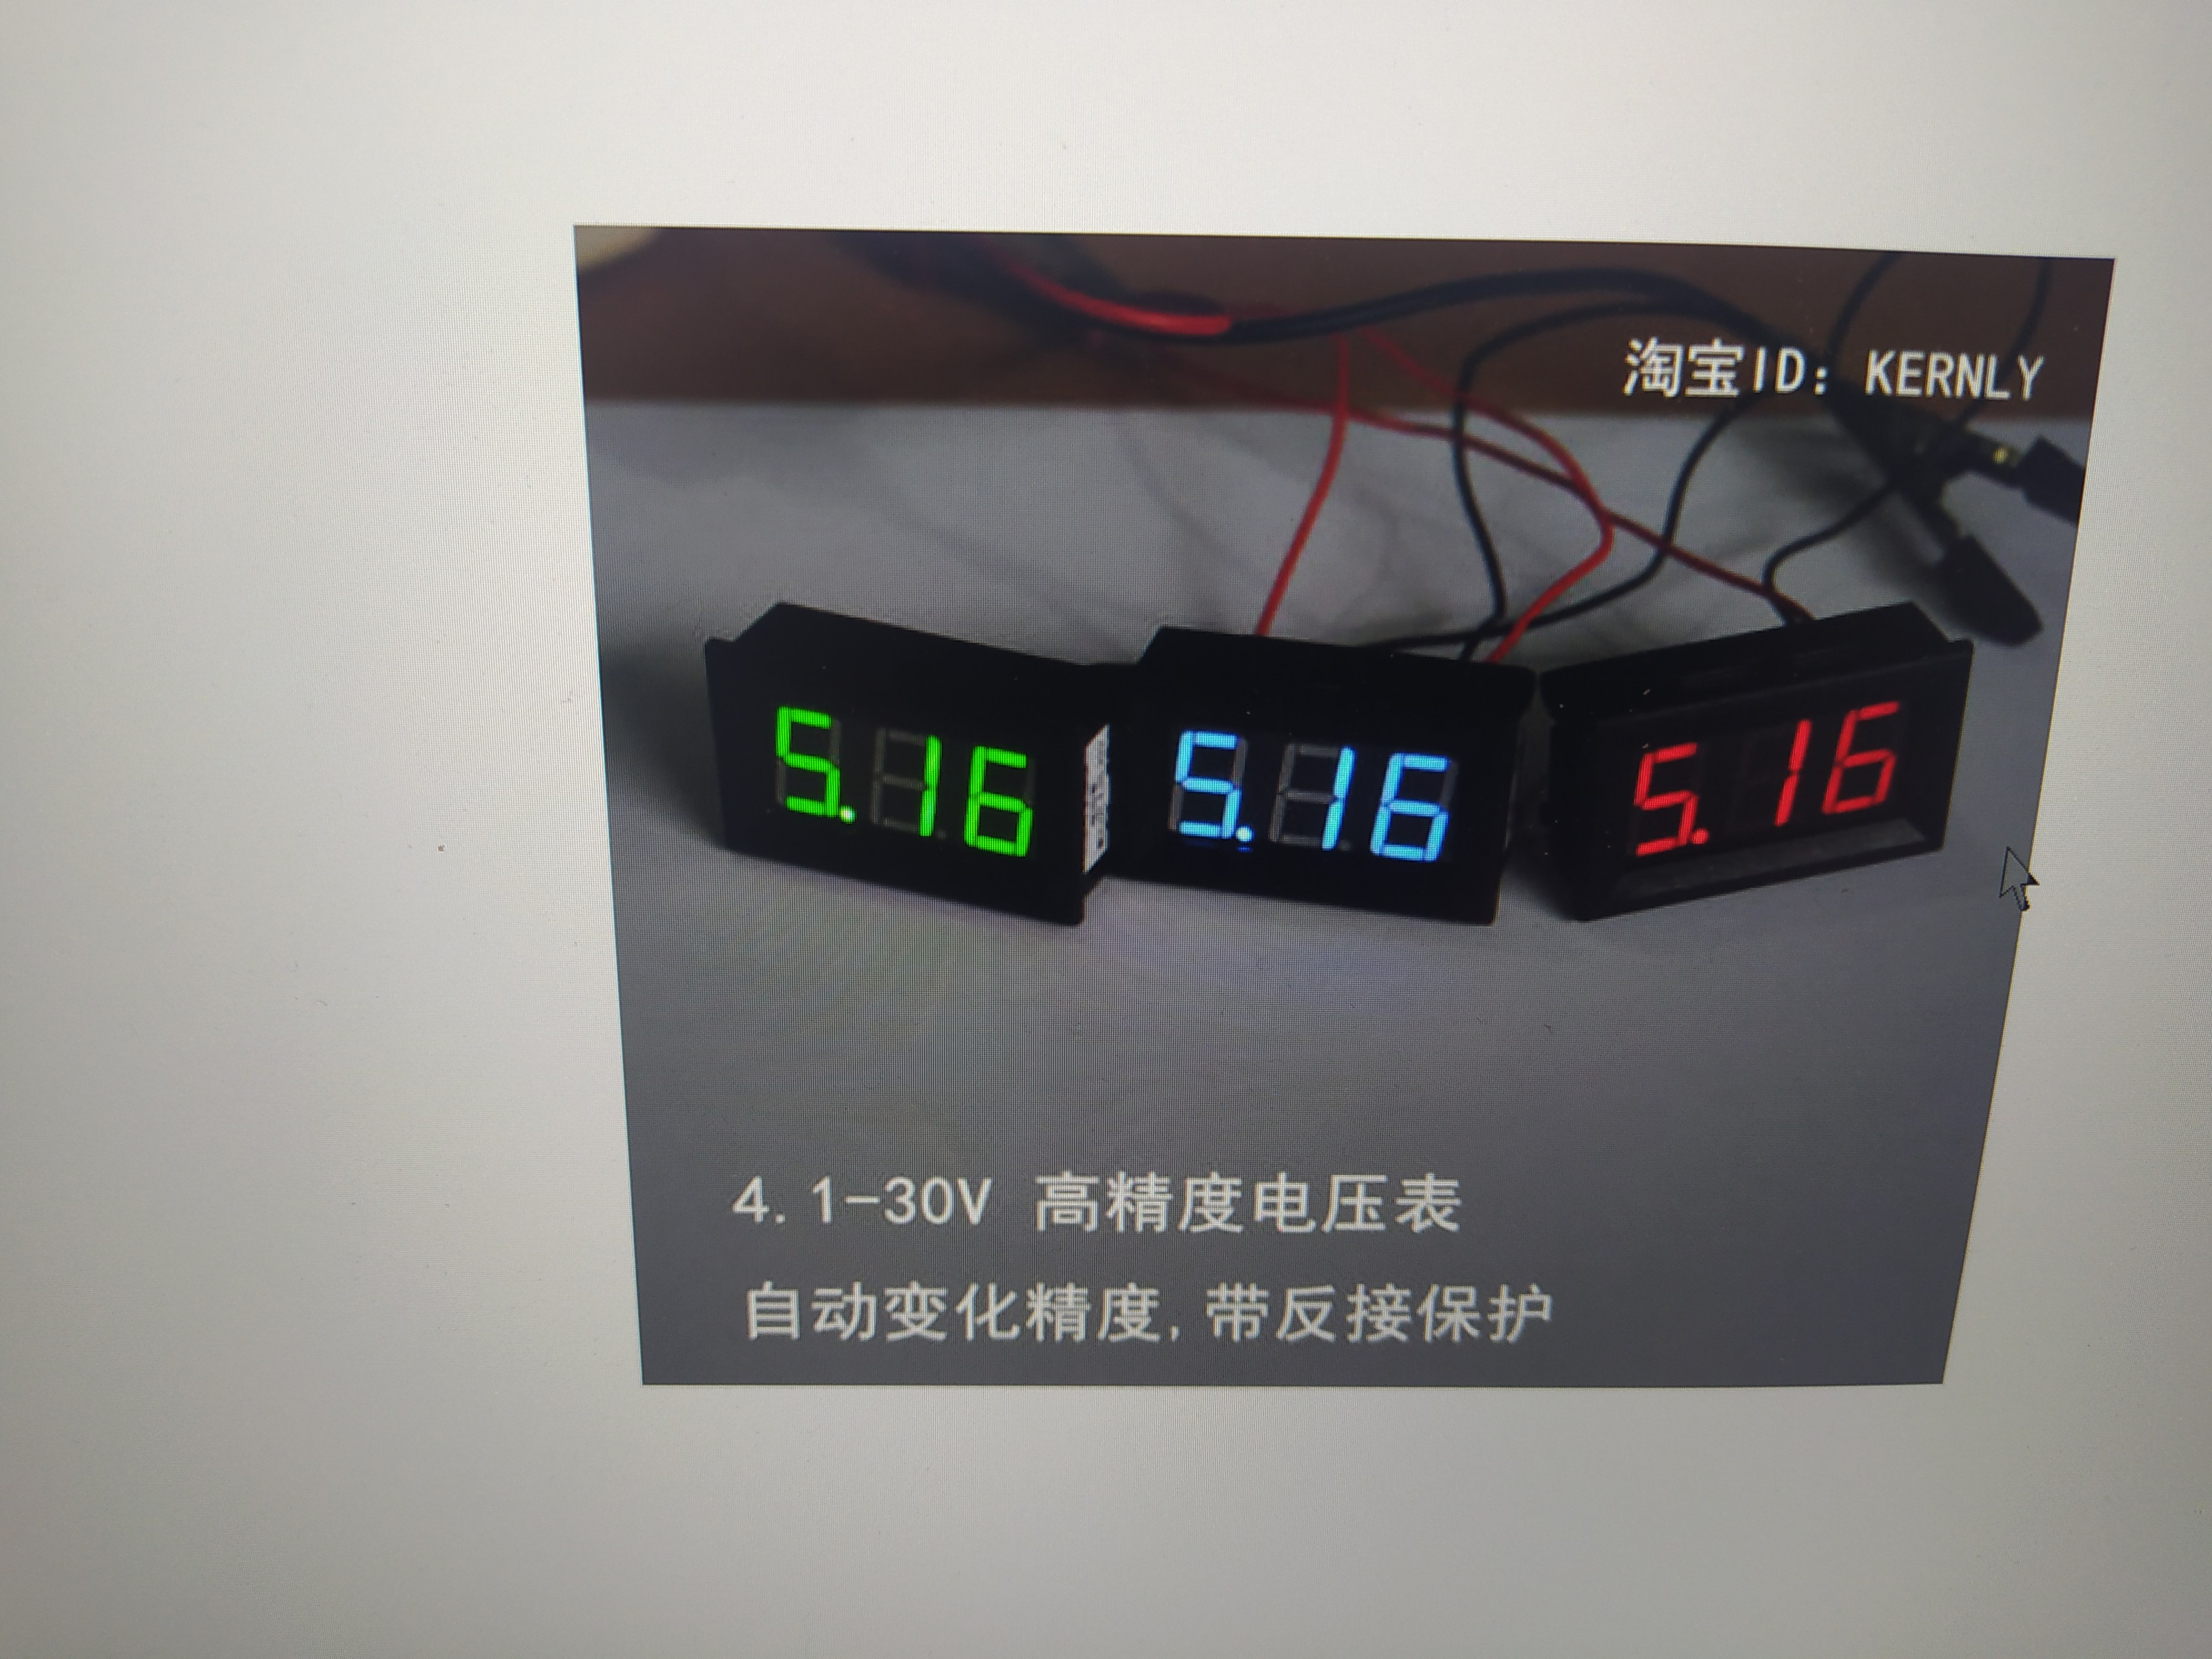.: (834, 711, 857, 824), (1691, 746, 1712, 849), (1237, 737, 1252, 843)
1: (1775, 716, 1808, 830), (1322, 744, 1353, 852), (914, 735, 939, 840)
5: (1174, 728, 1242, 842), (775, 708, 836, 817), (1635, 748, 1693, 856)
6: (1827, 701, 1911, 816), (1369, 749, 1451, 863), (967, 748, 1033, 857)
